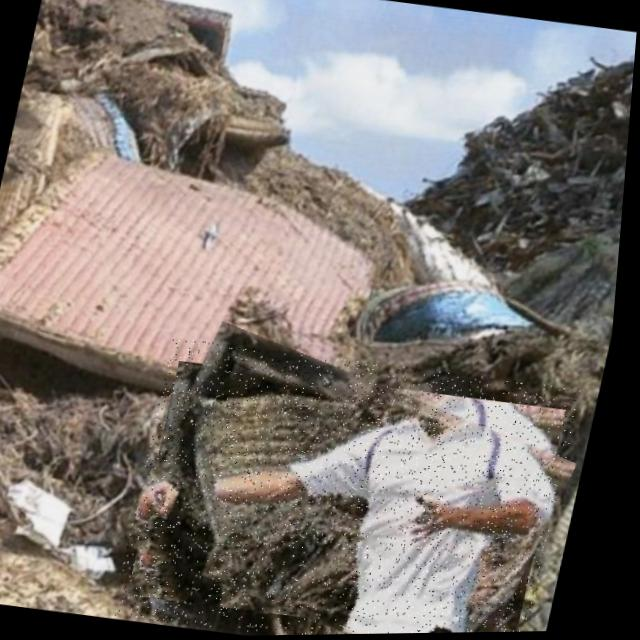Person in Rubble: (121, 334, 592, 638)
